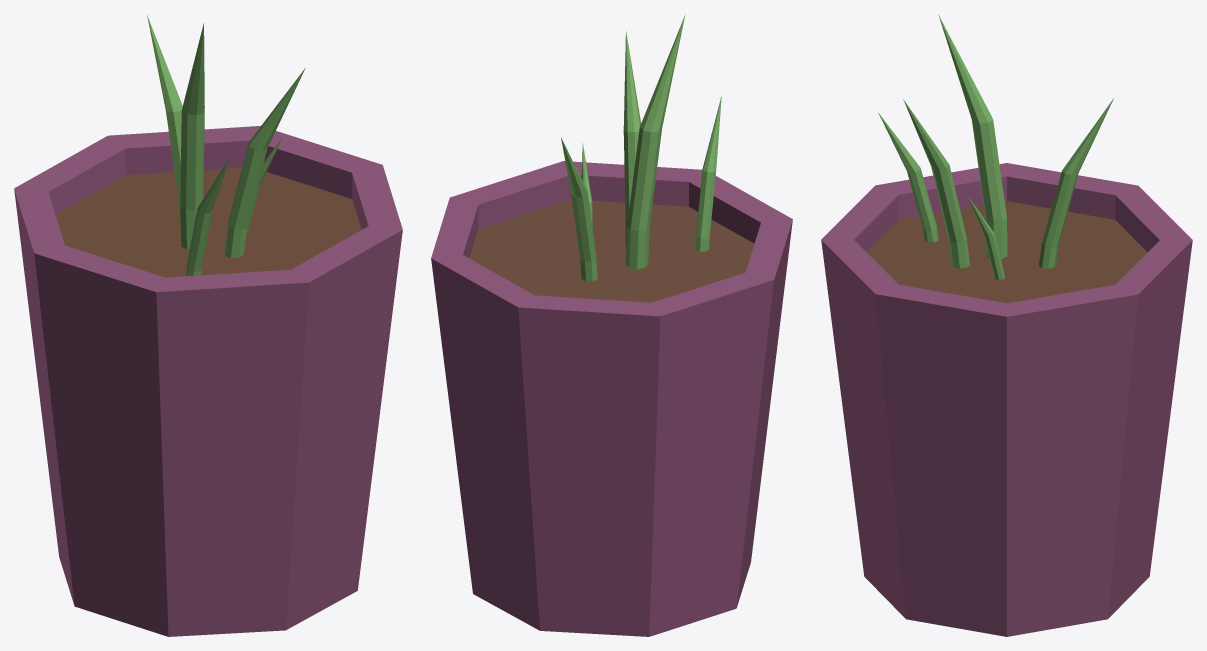
File: Backyard_Flower_2.fbx
3 renders of one model, left to right at view 1: azimuth 30°, elevation 25°; view 2: azimuth 150°, elevation 25°; view 3: azimuth 270°, elevation 25°, orthographic. The views are drawn at different scales.
Visible parts, largest first — view 1: Backyard_Flower_2; view 2: Backyard_Flower_2; view 3: Backyard_Flower_2.
Part boxes in pixels (bbox=[...]): Backyard_Flower_2: bbox=[14, 15, 402, 636]; Backyard_Flower_2: bbox=[431, 15, 792, 636]; Backyard_Flower_2: bbox=[821, 15, 1192, 636].
Bounding box in the file's own units: 33.71 × 54.44 × 33.71.
